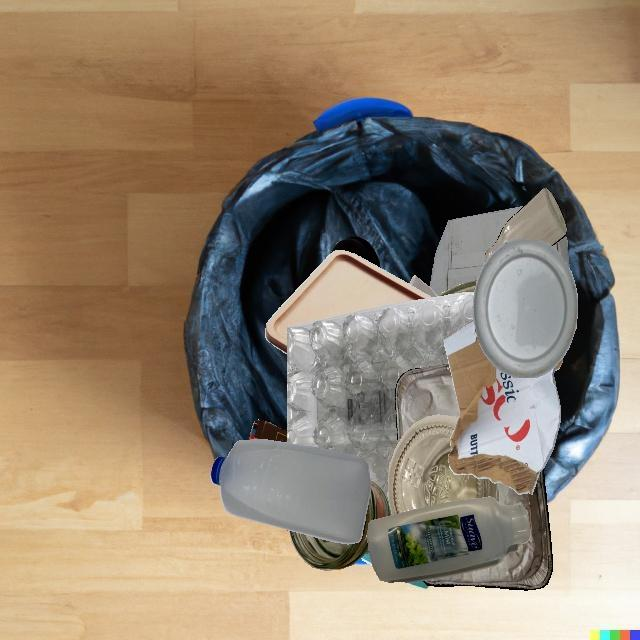cardboard: (443, 319, 561, 495), (430, 206, 524, 296), (249, 419, 287, 443), (554, 358, 563, 371)
combustible waste: (265, 250, 432, 354)
glass: (388, 415, 498, 515), (289, 480, 391, 570), (485, 188, 567, 263), (438, 280, 477, 296)
metal: (422, 468, 553, 590), (395, 364, 459, 444)
paper: (362, 500, 432, 586), (409, 275, 438, 297)
plastic: (287, 292, 474, 500), (210, 439, 371, 544), (472, 238, 578, 378), (367, 497, 531, 583), (330, 236, 380, 268)
